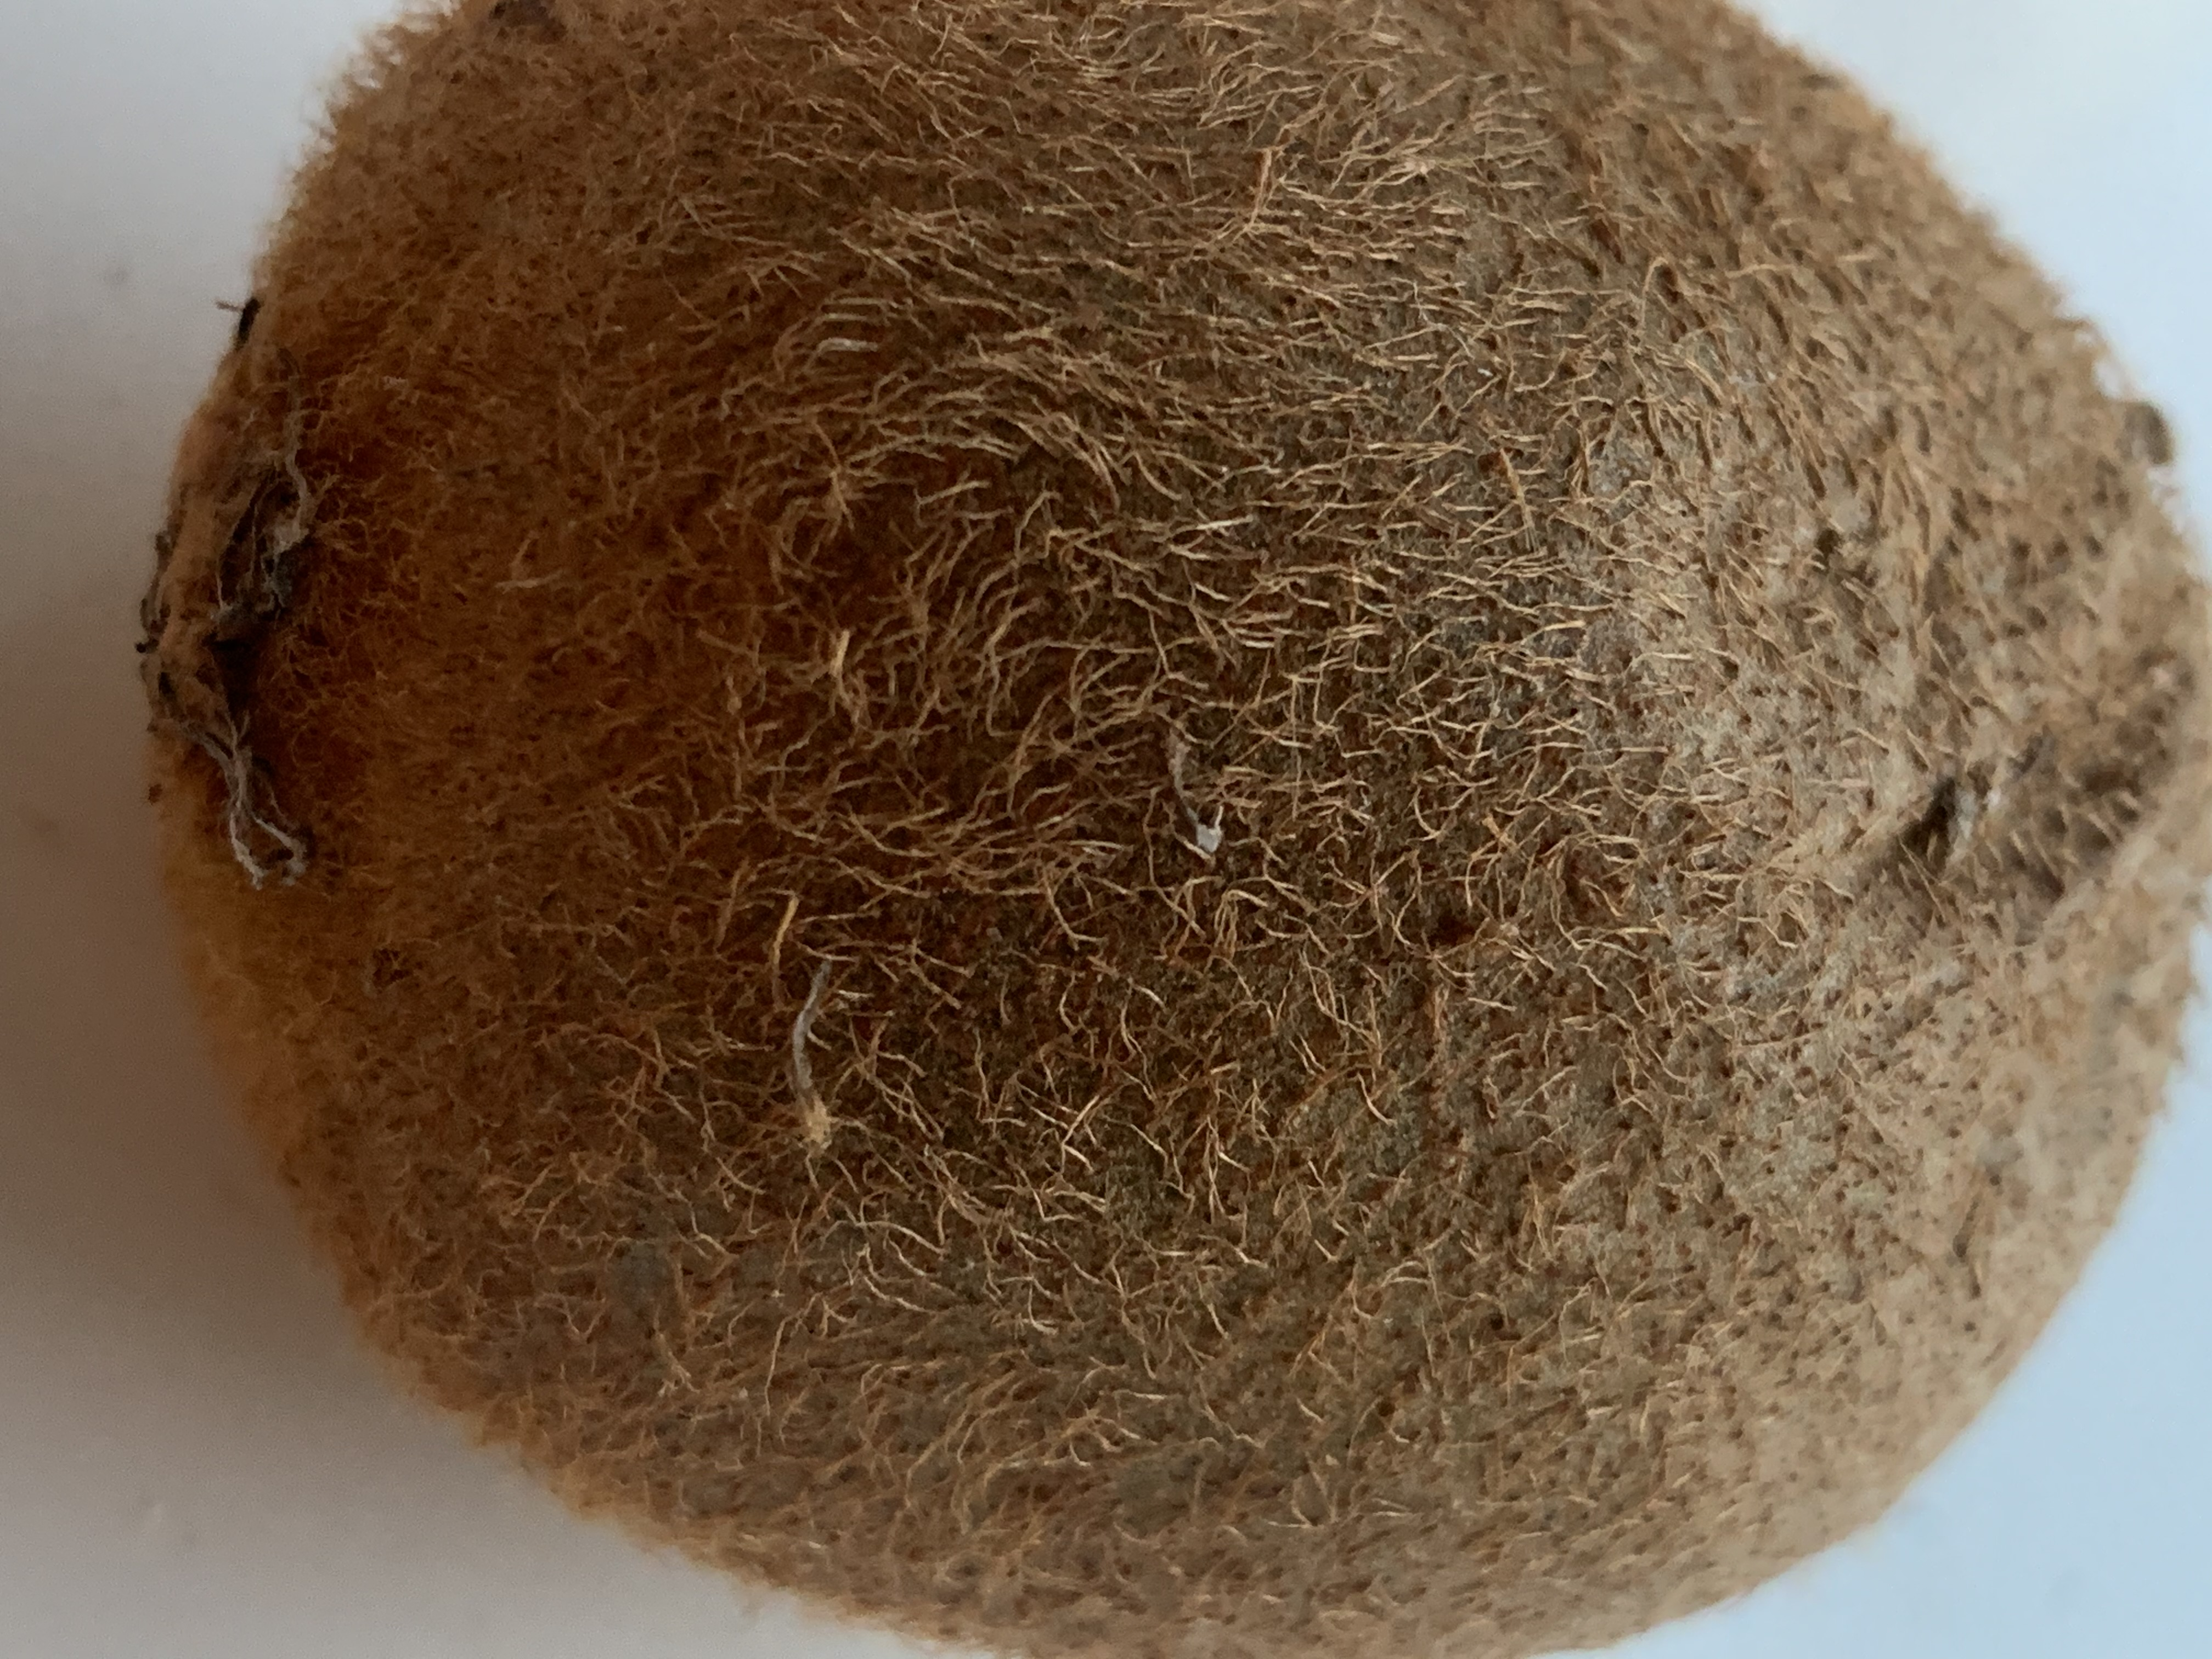kiwi: (152, 3, 2149, 1579)
